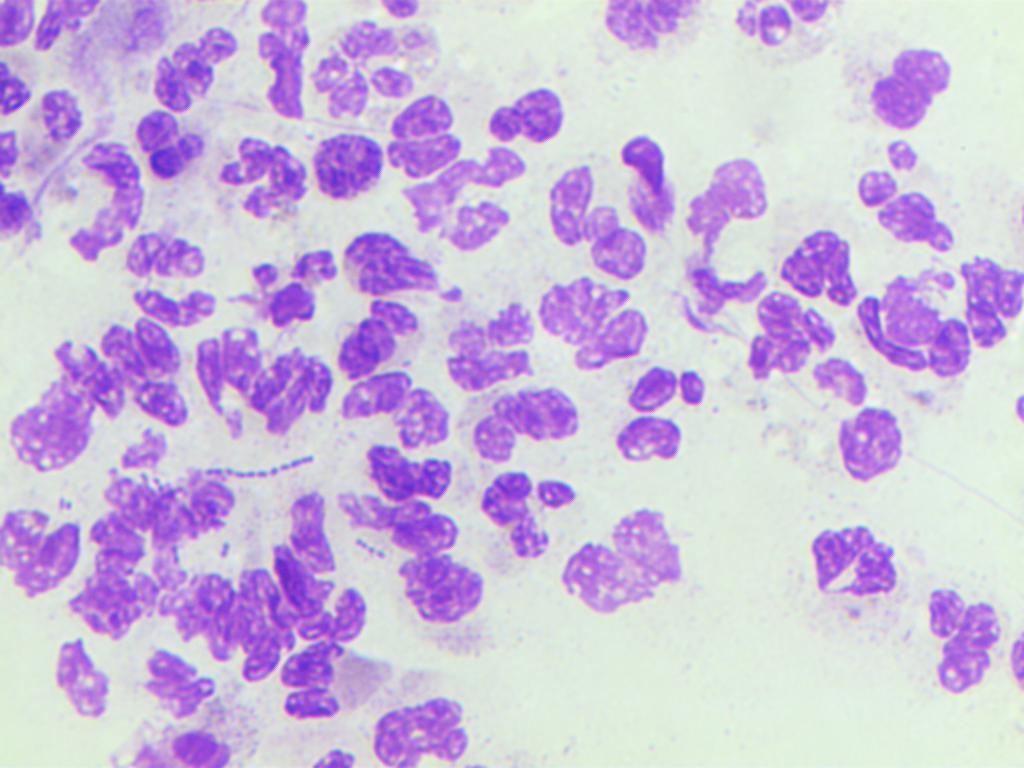epithelial: (829, 401, 907, 487)
neutrophil: (386, 136, 556, 256), (50, 300, 197, 432), (547, 501, 700, 624), (264, 481, 374, 645), (99, 425, 242, 546), (843, 134, 978, 258), (171, 550, 291, 680), (311, 17, 457, 122), (592, 358, 726, 472), (841, 265, 970, 383), (66, 517, 173, 651), (526, 275, 661, 375), (535, 162, 646, 280), (320, 475, 471, 561), (208, 118, 313, 240), (265, 635, 393, 735), (845, 42, 972, 140), (328, 221, 469, 307), (327, 366, 462, 455), (477, 460, 584, 570), (729, 283, 834, 395), (660, 248, 769, 354), (922, 567, 1005, 705), (60, 139, 145, 273), (307, 301, 442, 384), (122, 223, 221, 334), (805, 512, 906, 619), (238, 238, 344, 337), (139, 15, 239, 118), (444, 293, 541, 398), (459, 378, 583, 459), (771, 205, 863, 314), (463, 67, 586, 147), (364, 685, 480, 768), (90, 712, 256, 768), (607, 118, 684, 235), (947, 248, 1022, 367), (381, 87, 474, 182), (351, 423, 459, 503), (133, 648, 223, 726), (120, 101, 204, 184), (378, 557, 483, 622), (30, 645, 113, 727), (598, 1, 707, 60), (310, 132, 385, 213), (731, 0, 840, 50)
